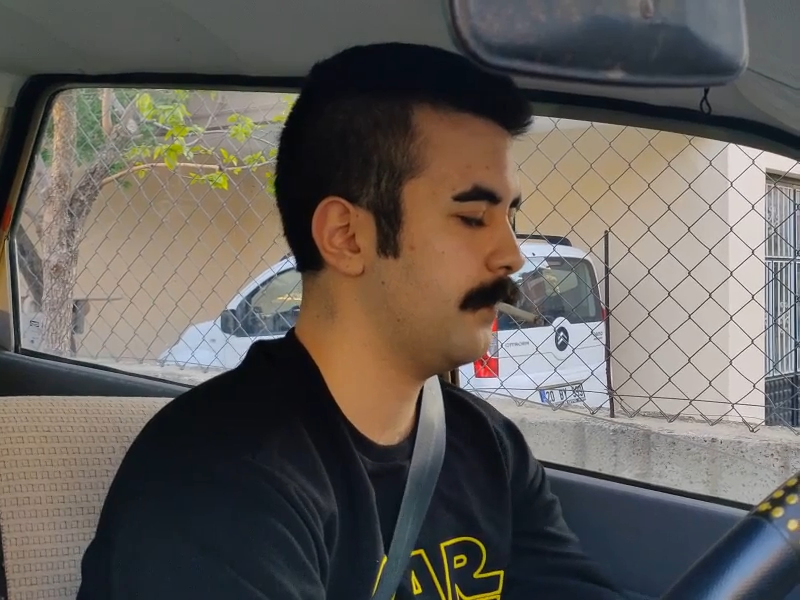sigara: (488, 297, 545, 327)
